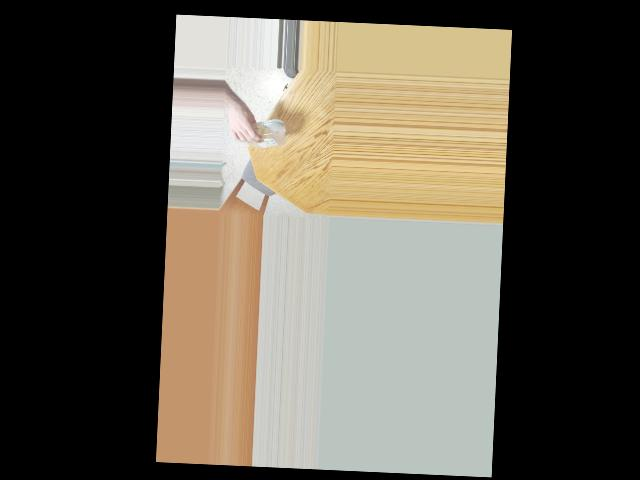cheese: (239, 114, 278, 149)
